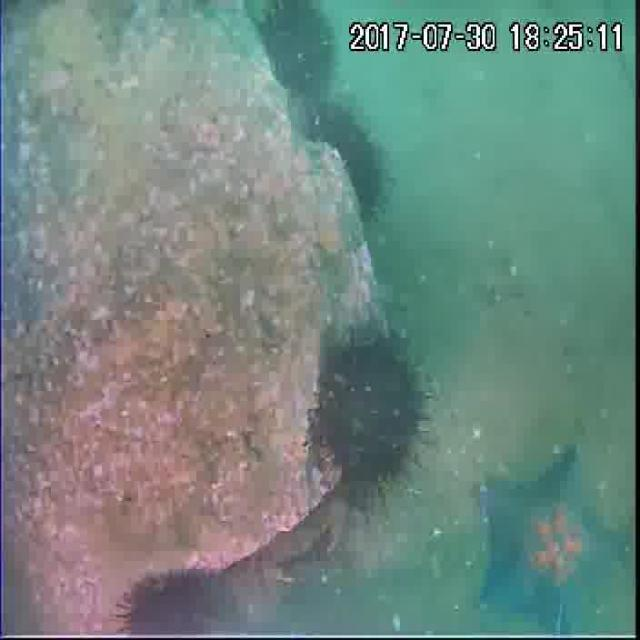echinus: (314, 332, 426, 494), (306, 102, 388, 224), (258, 0, 339, 99), (120, 564, 222, 640)
starfish: (471, 441, 635, 640)
